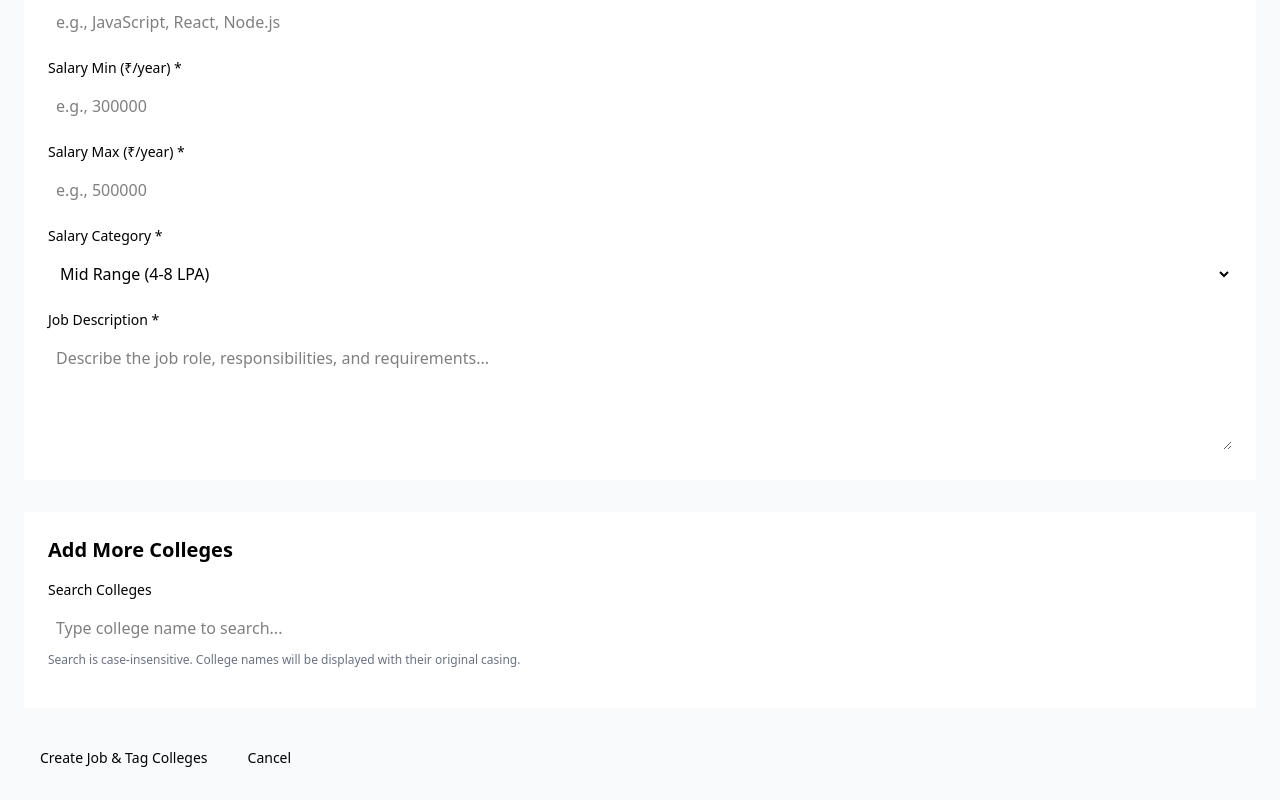
Scenario: Organization College Tagging Page › College Search › displays search results with original casing
(page scrolled)
Type "mit" into the field with placeholder "Type college name to search...".
click(640, 628); type("mit")  # box x1=48 y1=608 x2=1232 y2=648
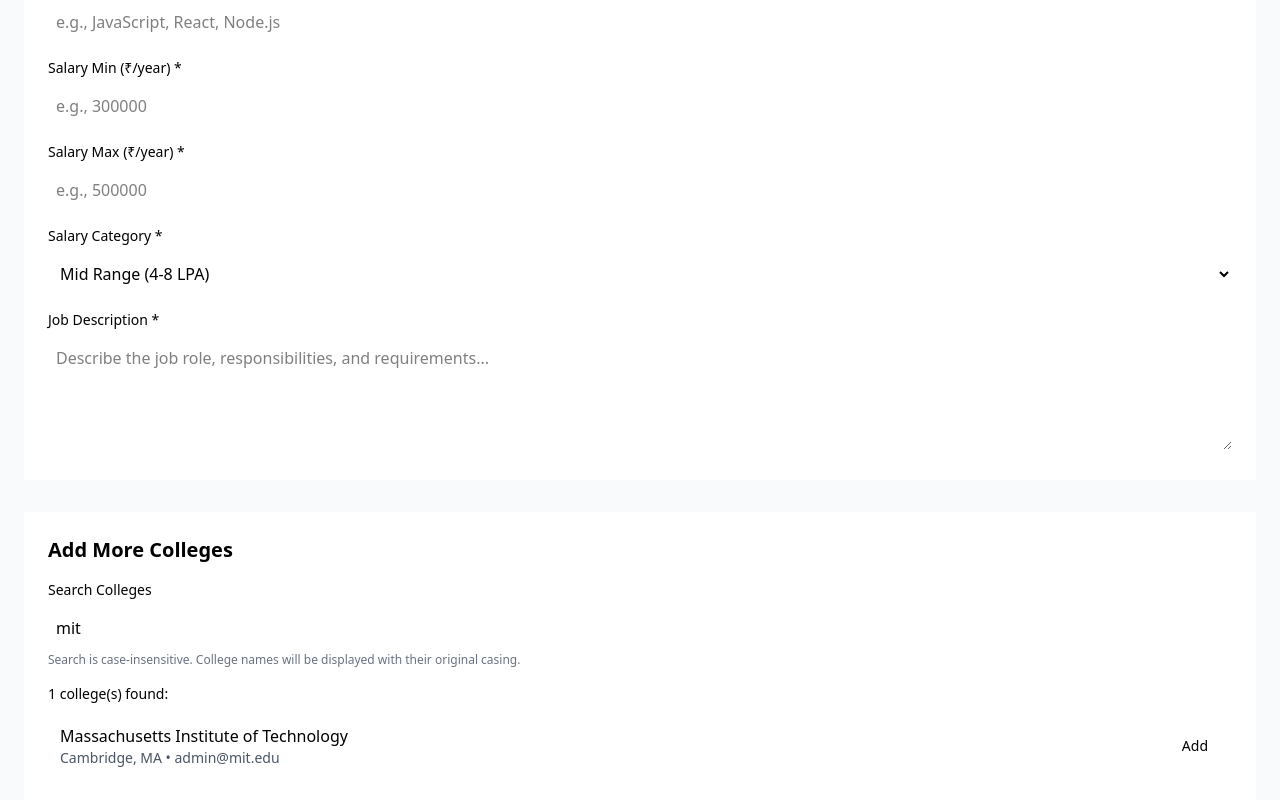
Now the text "Massachusetts Institute of Technology" is shown, box x1=60 y1=725 x2=348 y2=747
Now the text "Cambridge, MA • admin@mit.edu" is shown, box x1=60 y1=748 x2=280 y2=767
